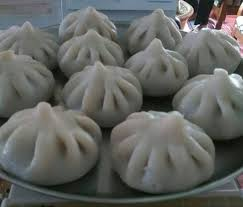modak: (105, 101, 224, 193), (3, 95, 105, 194), (164, 65, 243, 138), (63, 59, 148, 123), (120, 39, 196, 93), (46, 31, 134, 73), (1, 49, 55, 114), (173, 23, 243, 73), (114, 7, 188, 53), (1, 17, 61, 67), (57, 7, 125, 42)
